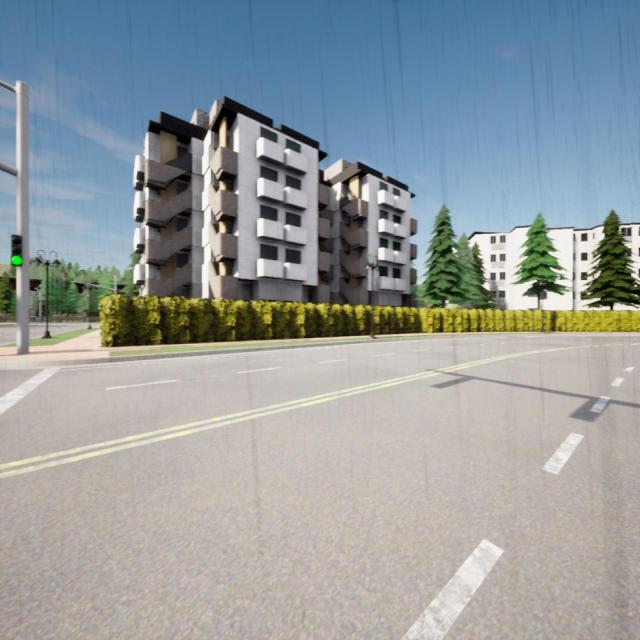traffic_light: (11, 234, 23, 266)
